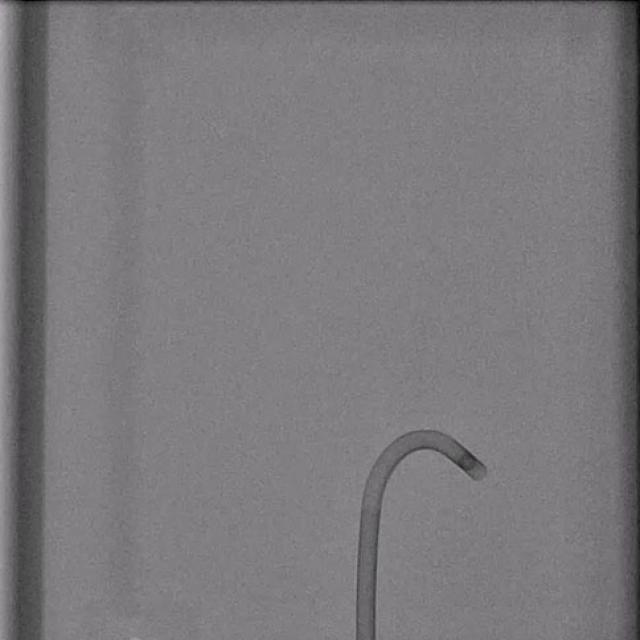bend: (362, 492, 383, 506)
entry: (358, 634, 375, 640)
marker: (456, 452, 478, 472)
tip: (472, 467, 489, 482)
